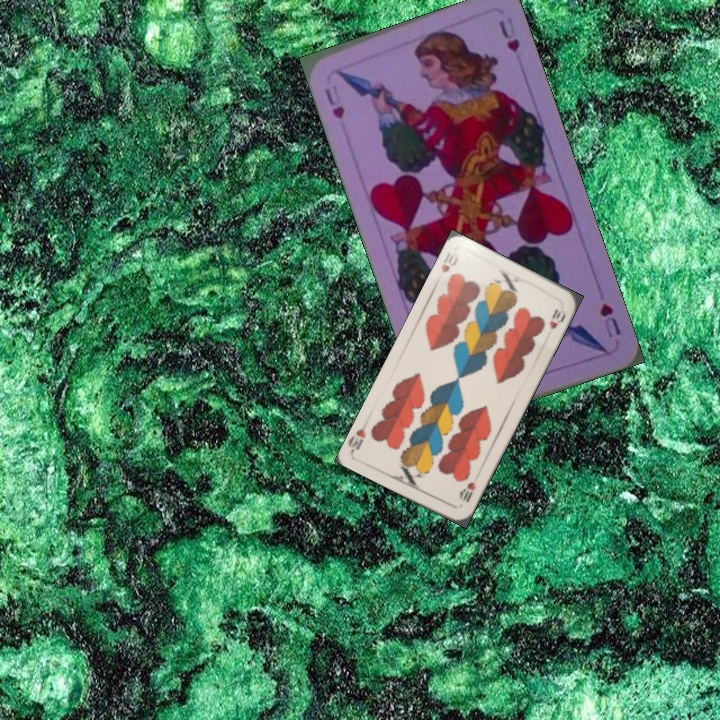H10: (437, 248, 461, 276), (455, 478, 478, 505)
HU: (595, 299, 624, 341), (320, 81, 348, 122)
